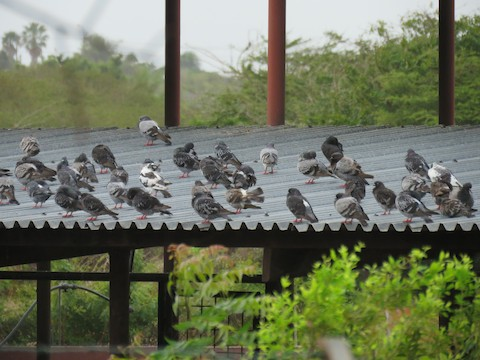pigeon: (186, 191, 232, 226), (131, 114, 174, 149), (328, 189, 372, 222), (388, 190, 433, 220), (294, 148, 330, 184), (282, 185, 317, 222), (101, 177, 134, 215), (400, 144, 430, 178), (256, 139, 281, 177), (15, 132, 47, 159), (69, 153, 97, 183), (12, 160, 41, 185)
